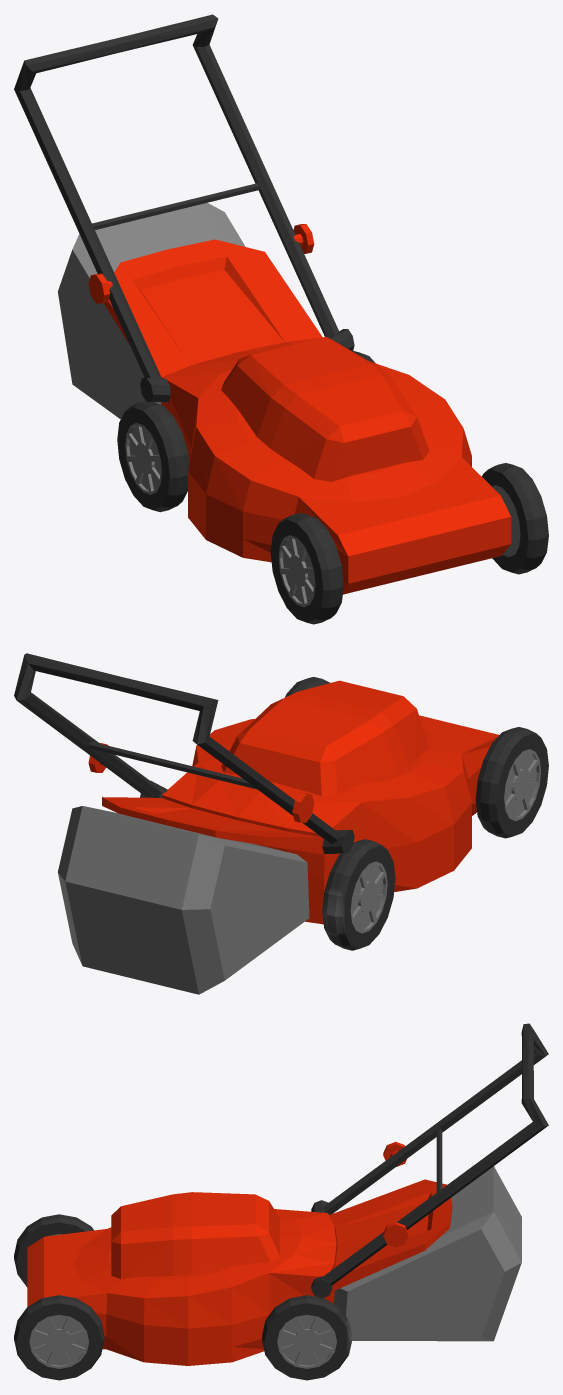
The model's file is 1317 Lawn Mower.obj.
3 renders of one model, top to bottom at view 1: azimuth 30°, elevation 25°; view 2: azimuth 150°, elevation 25°; view 3: azimuth 270°, elevation 25°, orthographic. The views are drawn at different scales.
Visible parts, largest first — view 1: Lawn_Mower; view 2: Lawn_Mower; view 3: Lawn_Mower.
Boxes of the visible parts, x1,y1,x2,y2 form: Lawn_Mower: (14, 14, 548, 624); Lawn_Mower: (14, 653, 548, 994); Lawn_Mower: (14, 1023, 548, 1380).
Bounding box in the file's own units: 51.96 × 68.94 × 120.
